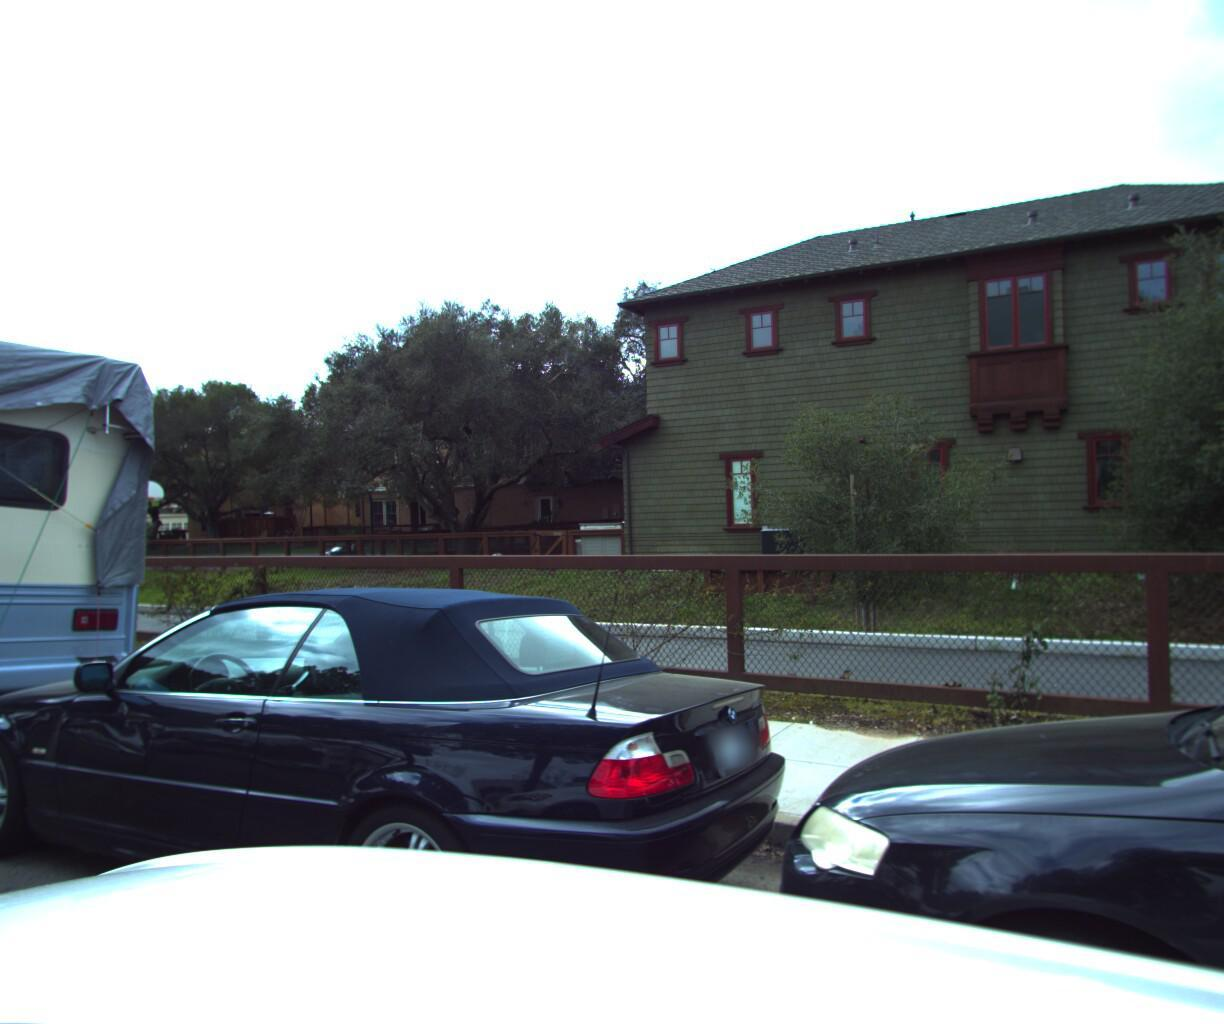bus: (0, 269, 188, 859)
car: (0, 565, 812, 1024)
